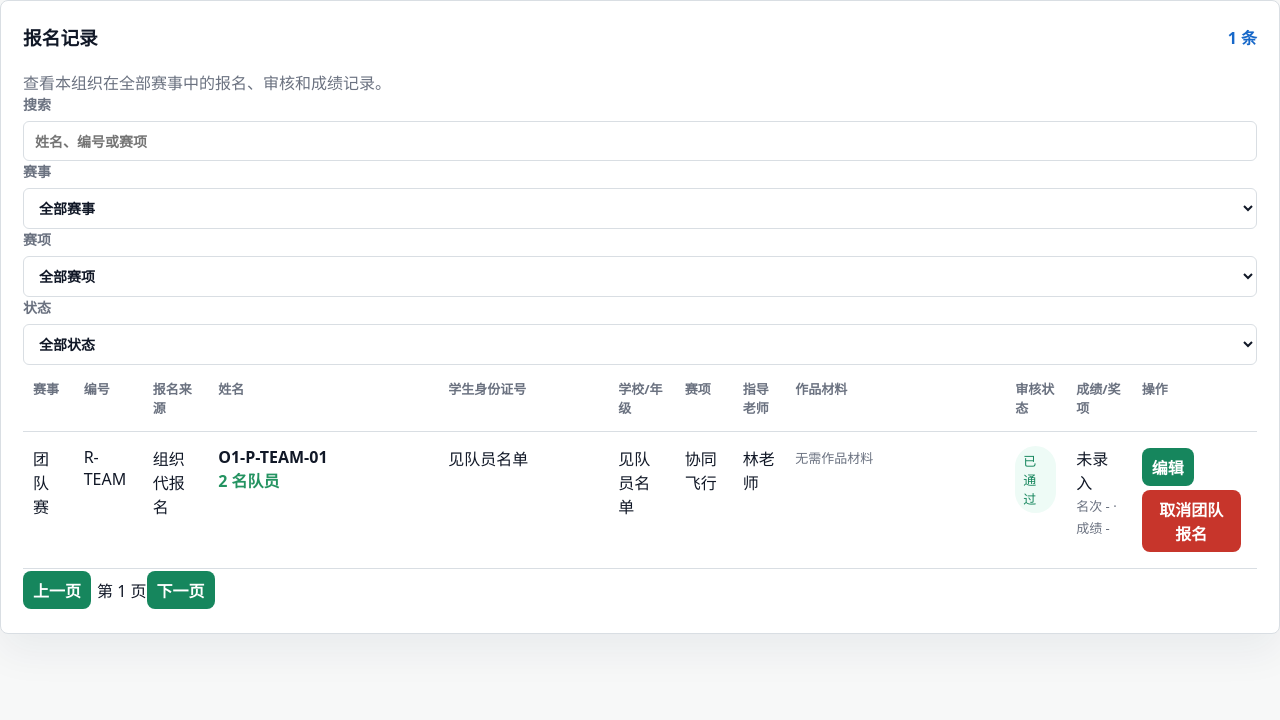
Test case: App session integration › confirms and cancels one organization-owned team from registration records
The image size is (1280, 720).
Click the button "取消团队报名" at (1191, 521), box [1142,490,1241,552]
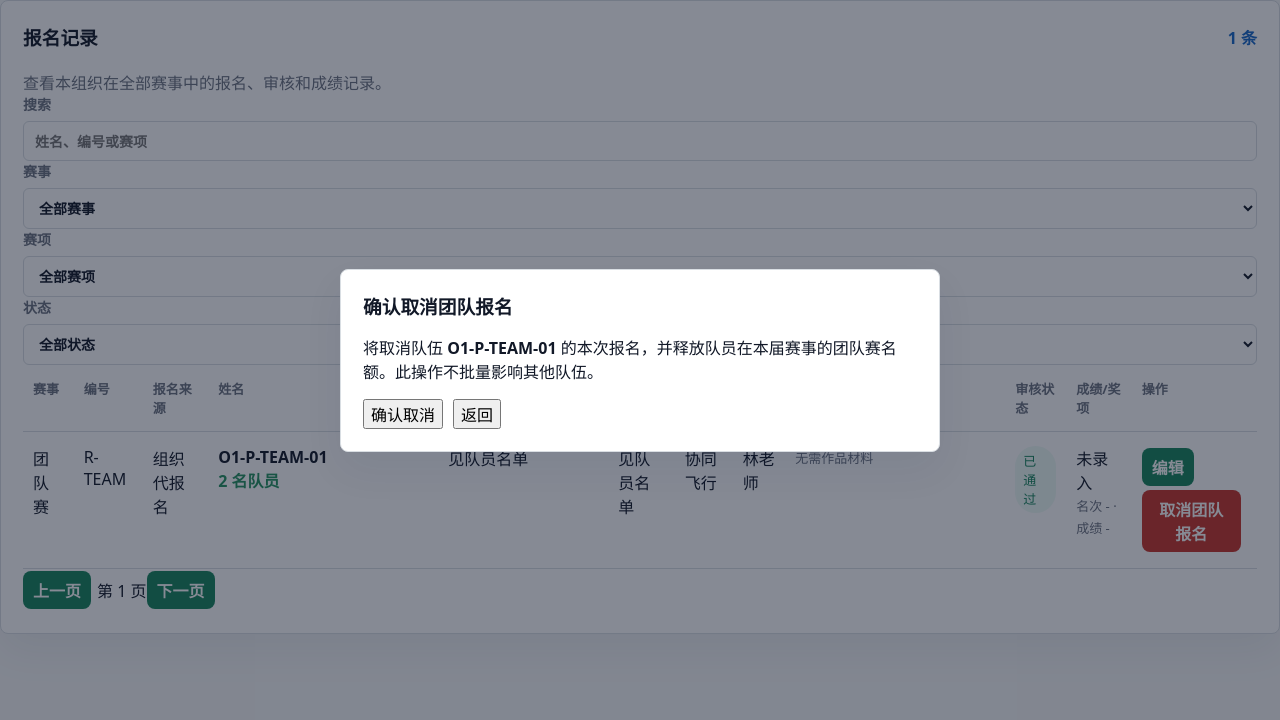
Now the dialog with test id "organization-team-cancellation-dialog" shows "O1-P-TEAM-01", box [447,336,557,358]
Click the button "返回" at (477, 414), box [453,398,501,428]
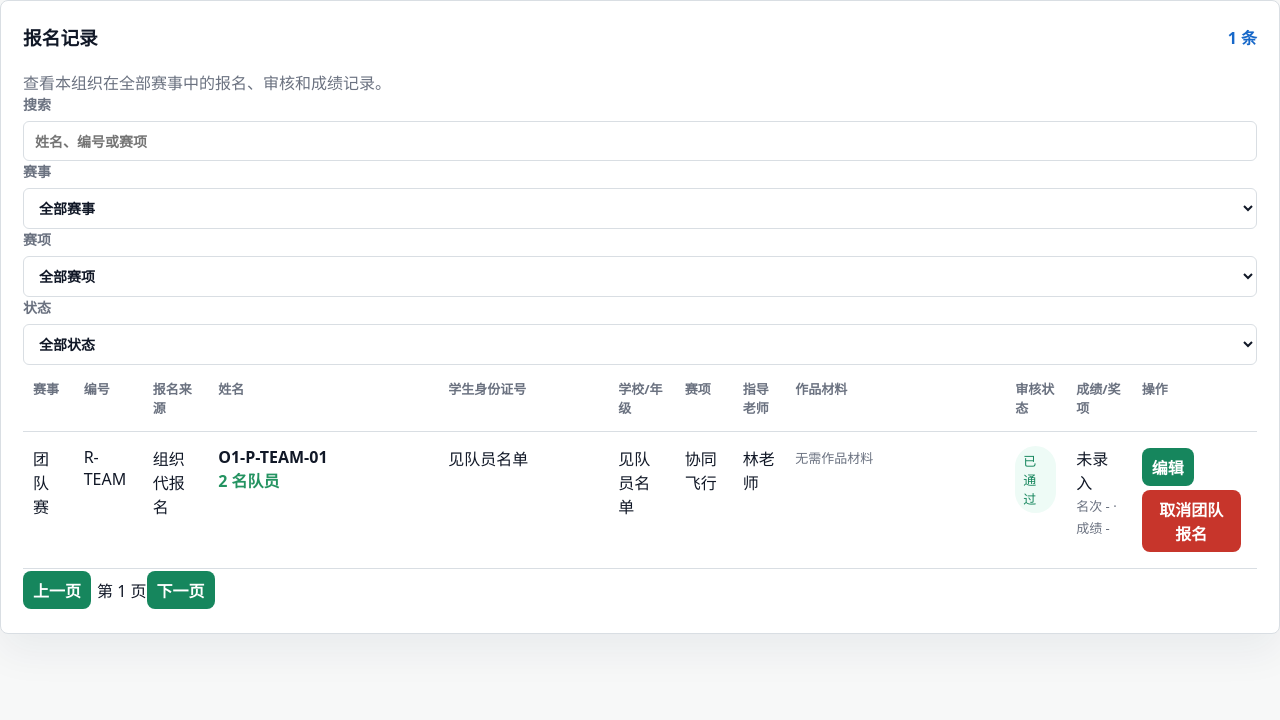
Click the button "取消团队报名" at (1191, 521), box [1142,490,1241,552]
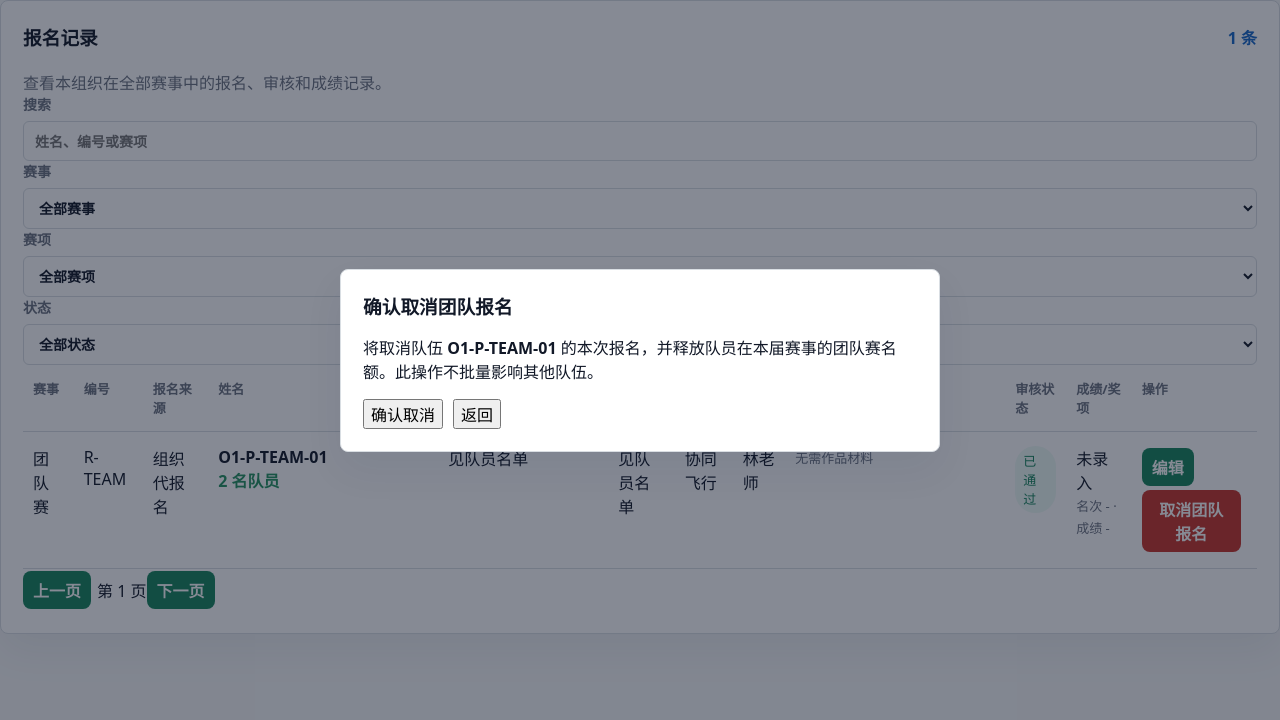
Click the button "确认取消" at (403, 414), box [363,398,443,428]
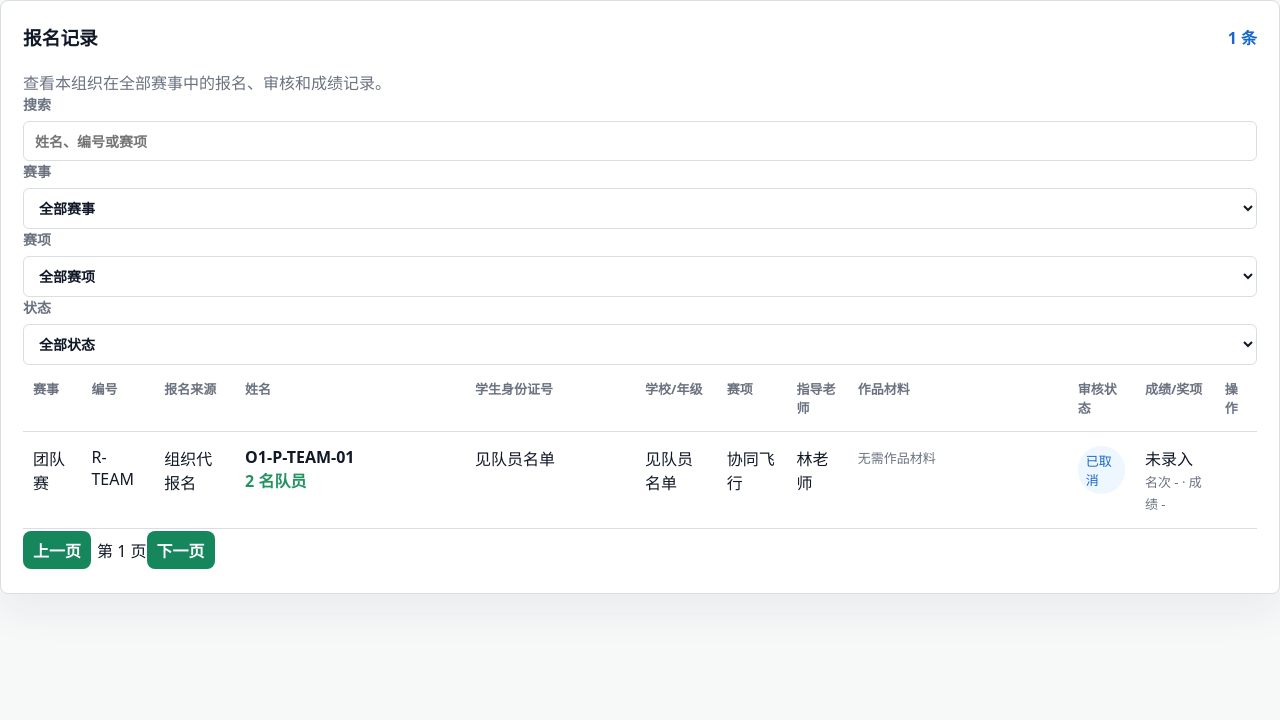
Now the text "已取消" is shown, box [1078,446,1125,494]
